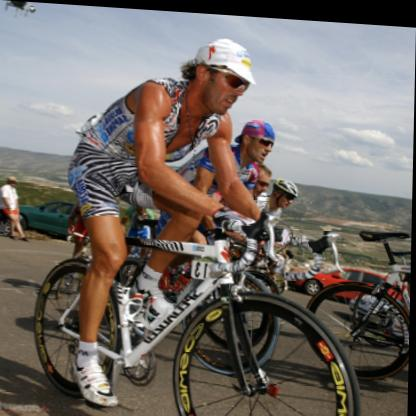With Helmet: (175, 32, 267, 112), (231, 115, 286, 165)
